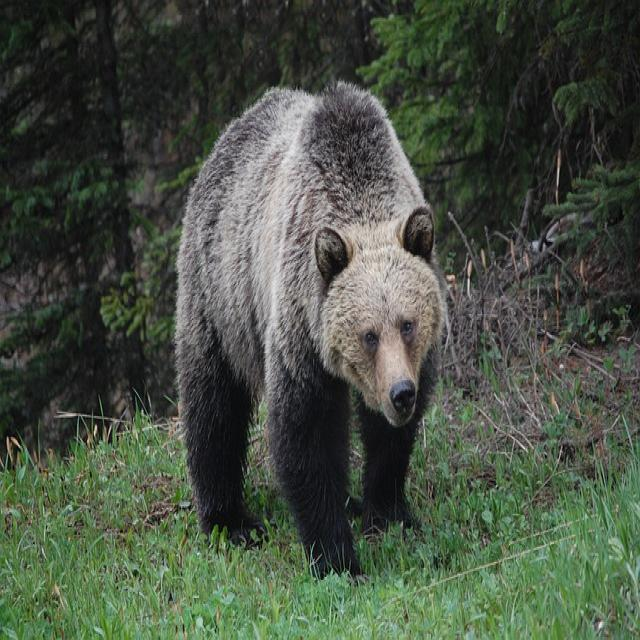Carnivorous: (176, 81, 449, 581)
